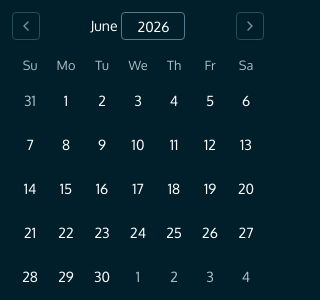
Scenario: Calendar › year field › accepts the year 0099
Replace the text in the field named "Year" with "0099" at coordinates (154, 26), box [122,12,186,40]
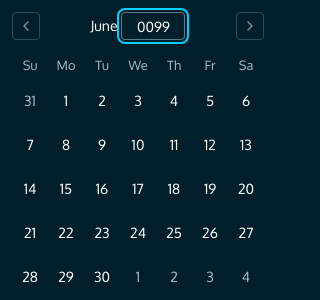
Press Enter
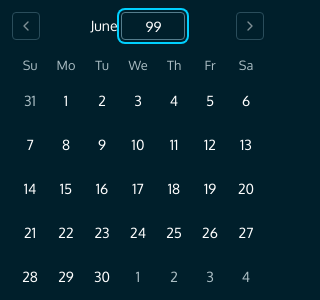
expect the text "June" is shown: met, box [90,16,118,36]
expect the field named "Year" holds "99": met, box [122,12,186,40]
